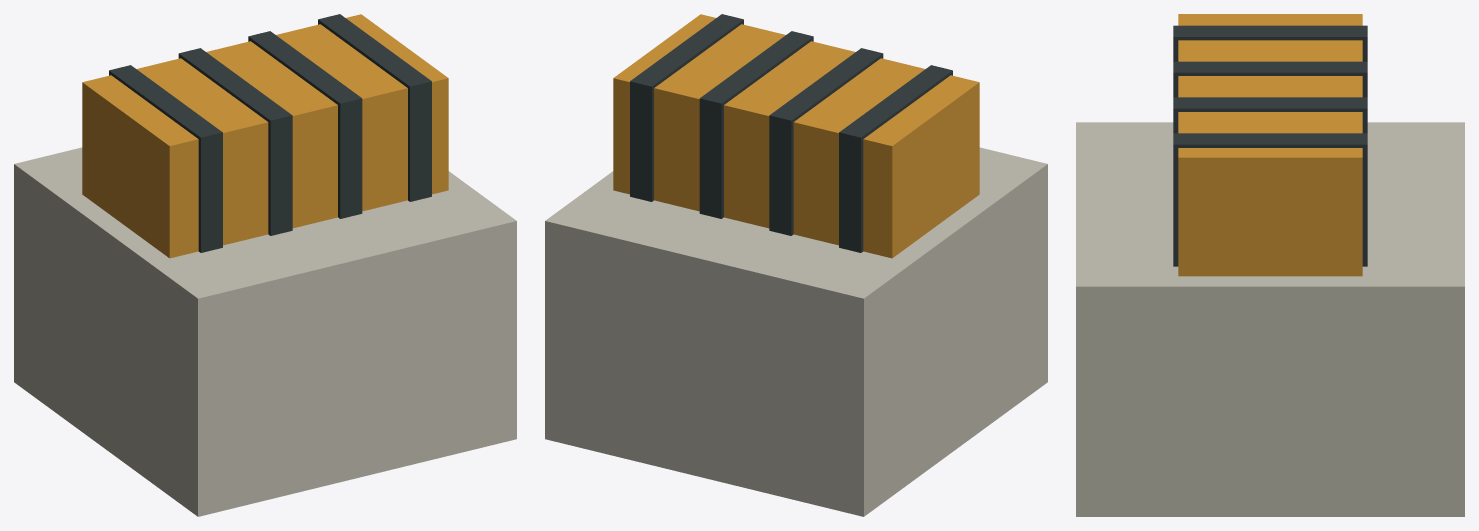
Rendered from barrier.glb.
3 views of the same model, side by side, from view 1: azimuth 30°, elevation 25°; view 2: azimuth 150°, elevation 25°; view 3: azimuth 270°, elevation 25° (orthographic). The views are drawn at different scales.
Parts seen in each view (by area): view 1: barrier_body; view 2: barrier_body; view 3: barrier_body.
Boxes of the visible parts, <box> form: barrier_body: <box>14,14,516,516</box>; barrier_body: <box>545,14,1047,516</box>; barrier_body: <box>1076,14,1464,516</box>.
Bounding box in the file's own units: 1 × 1 × 1.
